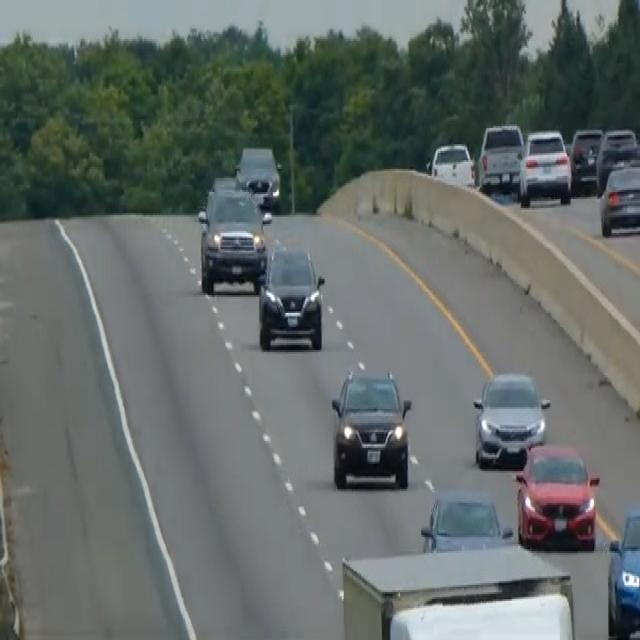car: (514, 439, 600, 551), (471, 366, 550, 468), (257, 238, 325, 350), (419, 487, 513, 551), (518, 126, 572, 206), (607, 505, 639, 636), (476, 119, 524, 194), (235, 142, 281, 210), (598, 160, 639, 236), (595, 126, 639, 194), (426, 138, 475, 188), (570, 124, 603, 192), (244, 170, 275, 210), (211, 171, 240, 192)
jeep: (328, 361, 414, 492), (196, 181, 269, 295)
lorry: (339, 542, 580, 638)
